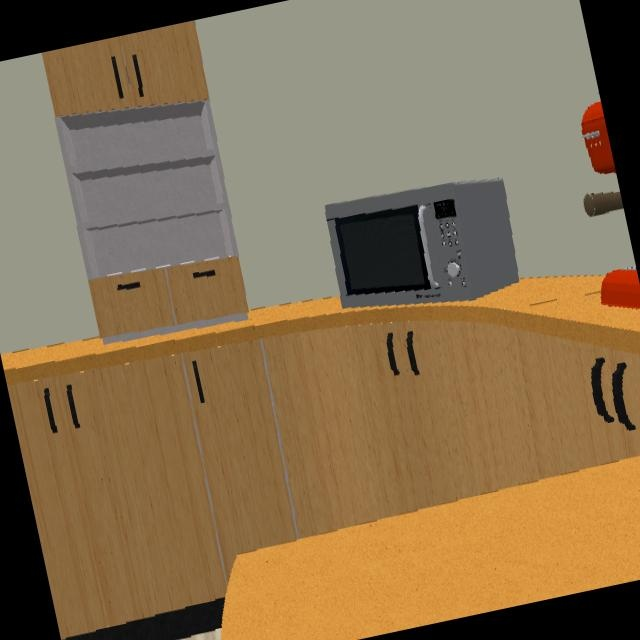cabinet: (41, 19, 209, 118), (88, 253, 250, 346)
countertop: (221, 455, 640, 640), (0, 269, 640, 387)
microwave: (325, 179, 518, 307)
shelf: (56, 99, 239, 300)
